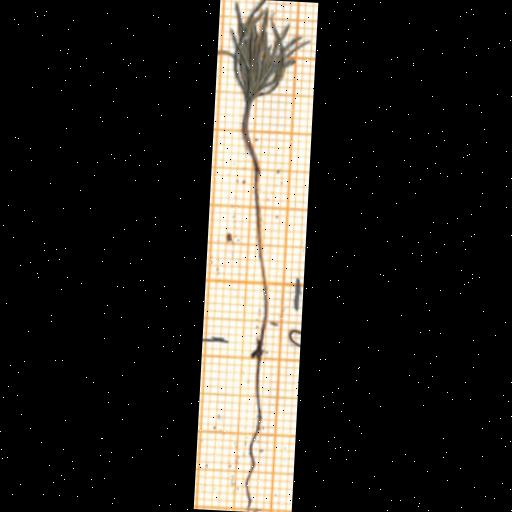flowerPinus: (231, 1, 308, 104)
rootPinus: (246, 338, 263, 507)
stemPinus: (242, 104, 270, 323)
